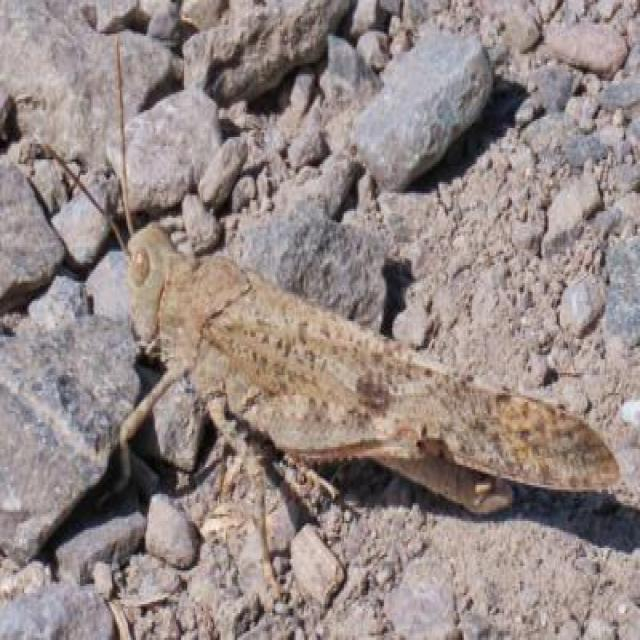antennae: (39, 142, 130, 256), (114, 37, 136, 238)
body: (127, 228, 516, 520)
insect: (38, 34, 621, 603)
legs: (209, 402, 282, 593), (91, 372, 180, 514), (274, 445, 342, 504)
mouthpart: (128, 312, 158, 350)
wings: (212, 314, 620, 488)
